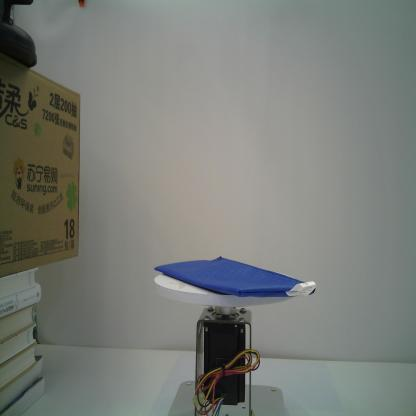Stationery: (153, 253, 316, 299)
